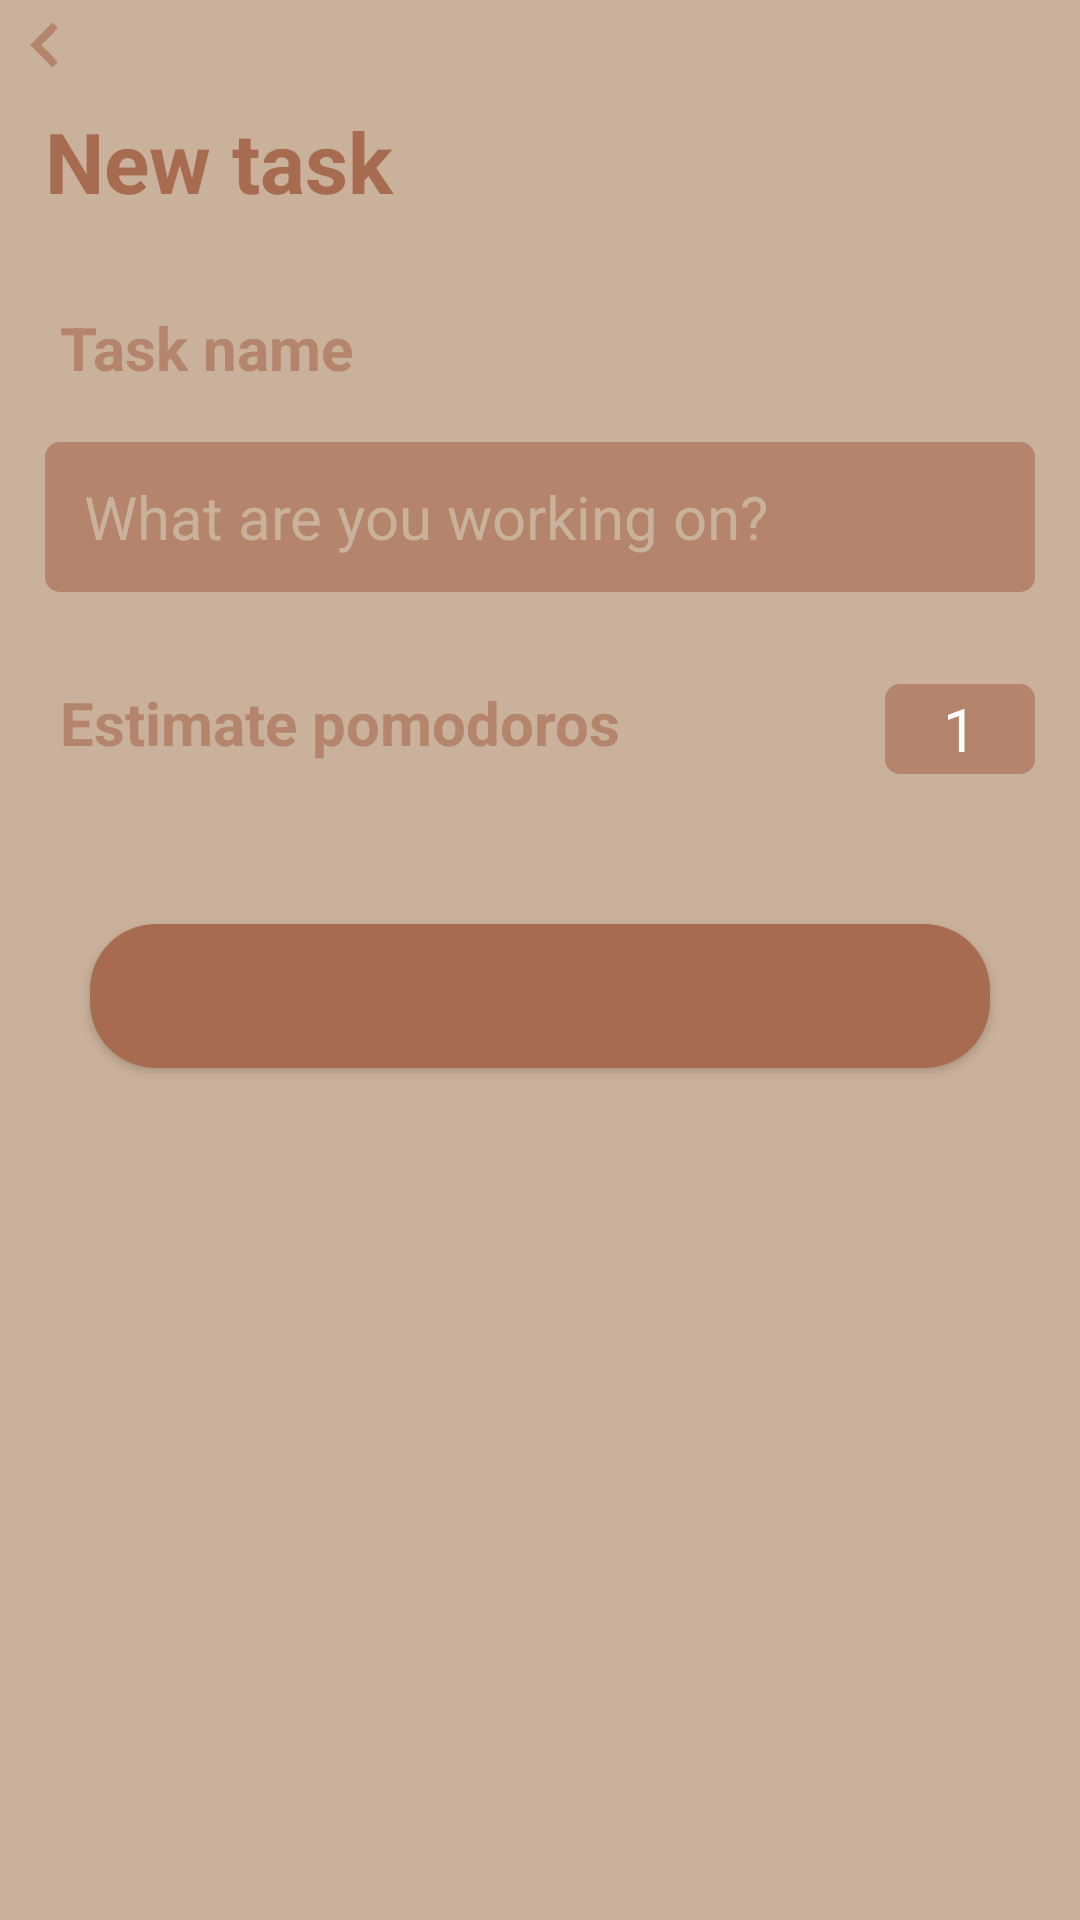

Locate icon controls on the screen. Image size 1080px×1920px, boxes as (x1, y1, x2, y2).
btnback: (31, 23, 57, 67)
